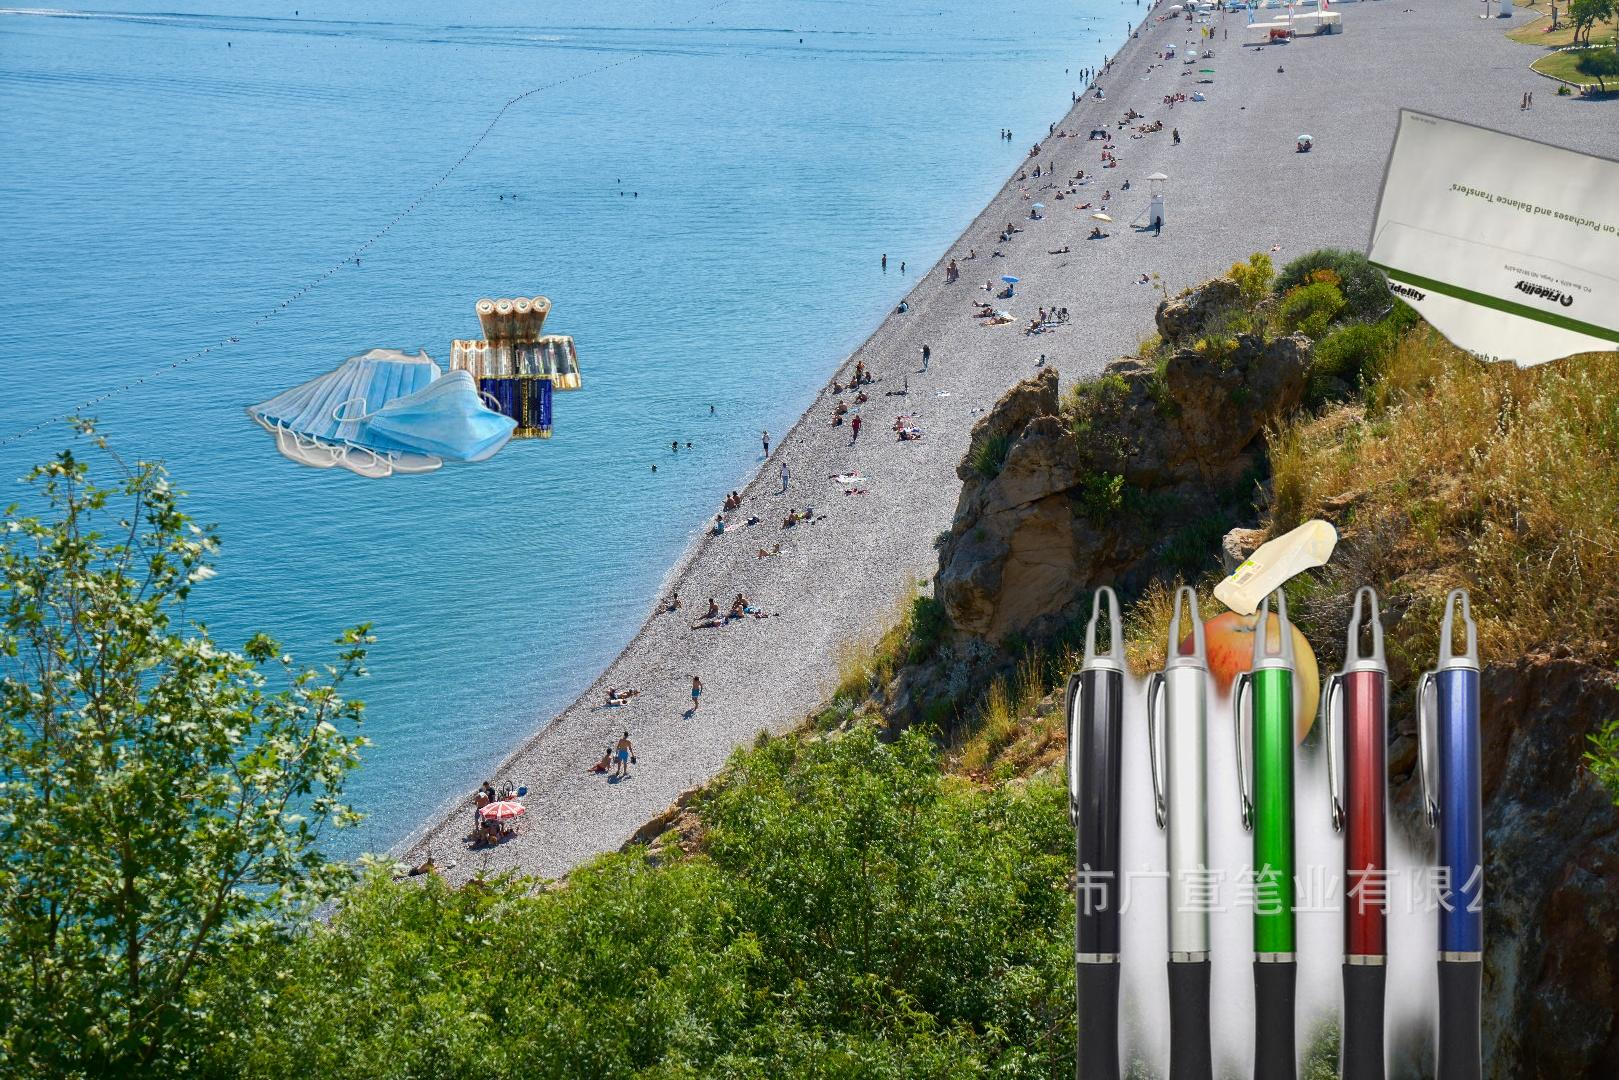battery: (444, 293, 585, 444)
biological: (1158, 605, 1322, 770)
glass: (1597, 1070, 1619, 1080)
paper: (1360, 104, 1619, 407)
penholder: (1057, 579, 1519, 1080)
plastic-bottles: (1208, 513, 1345, 623)
trash: (239, 346, 526, 481)
